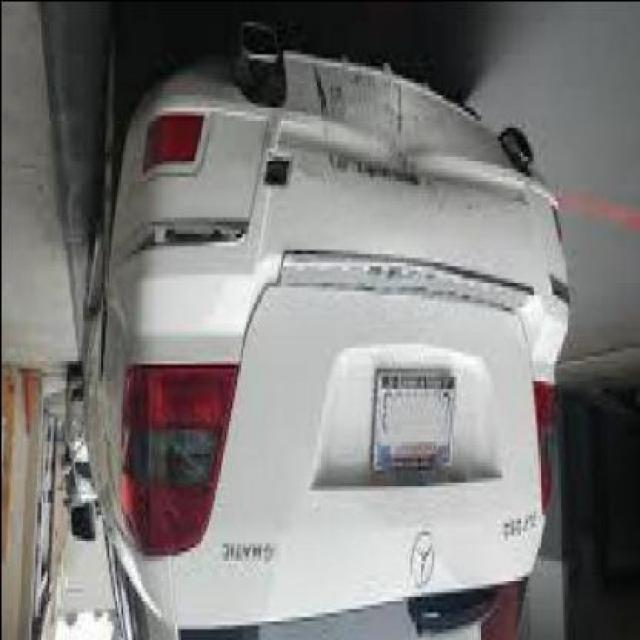damage: (258, 50, 485, 214)
